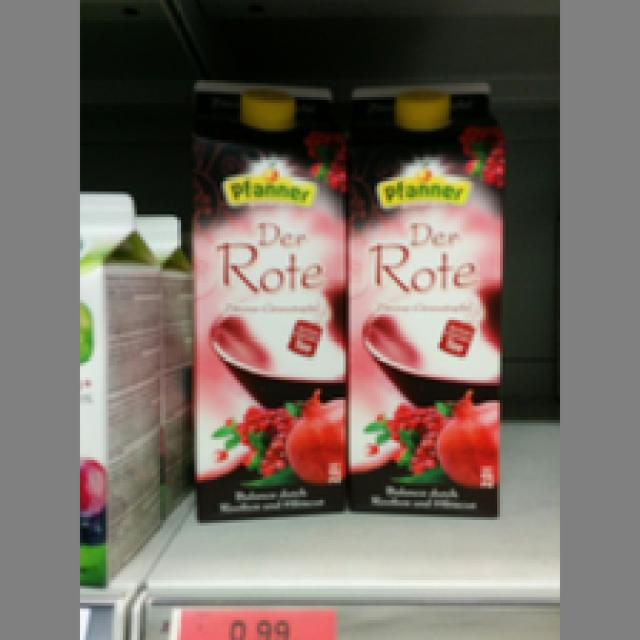groceries: (337, 77, 506, 517), (183, 74, 343, 520)
